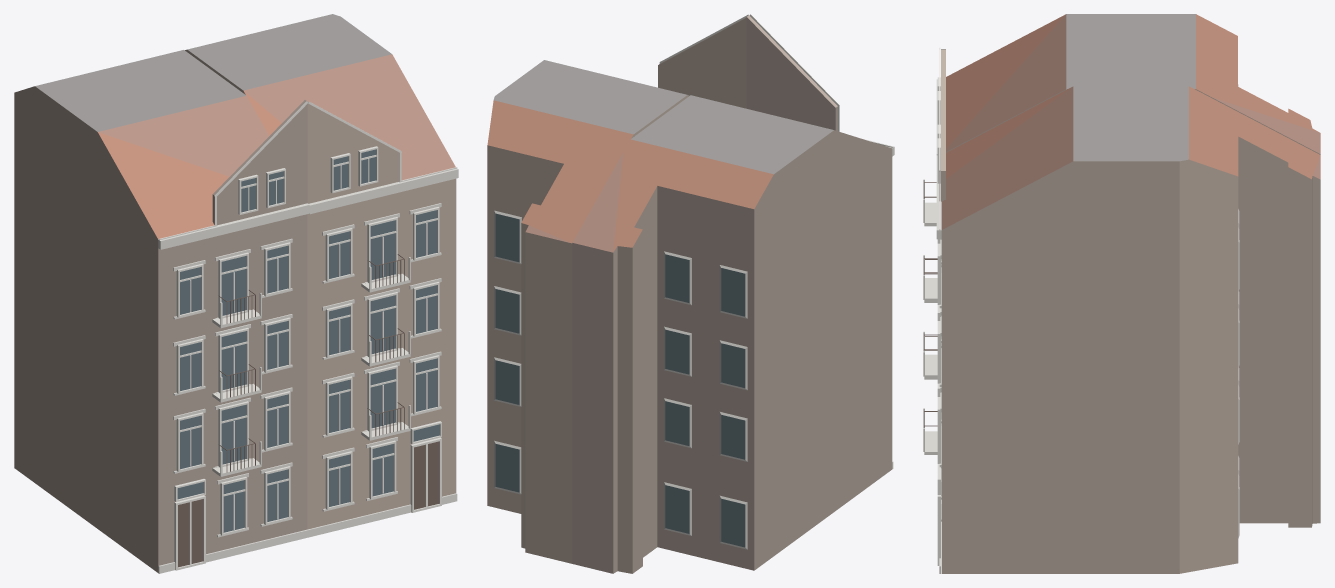
The model's file is chunk-face-transvaal-42-48-r1.glb.
3 renders of one model, left to right at view 1: azimuth 30°, elevation 25°; view 2: azimuth 150°, elevation 25°; view 3: azimuth 270°, elevation 25°, orthographic. The views are drawn at different scales.
Visible parts, largest first — view 1: face-transvaal-42-48-r1; view 2: face-transvaal-42-48-r1; view 3: face-transvaal-42-48-r1.
Boxes of the visible parts, x1,y1,x2,y2 form: face-transvaal-42-48-r1: (14, 14, 458, 573); face-transvaal-42-48-r1: (487, 14, 894, 573); face-transvaal-42-48-r1: (923, 14, 1320, 573).
Bounding box in the file's own units: 12.55 × 17.56 × 14.03.
